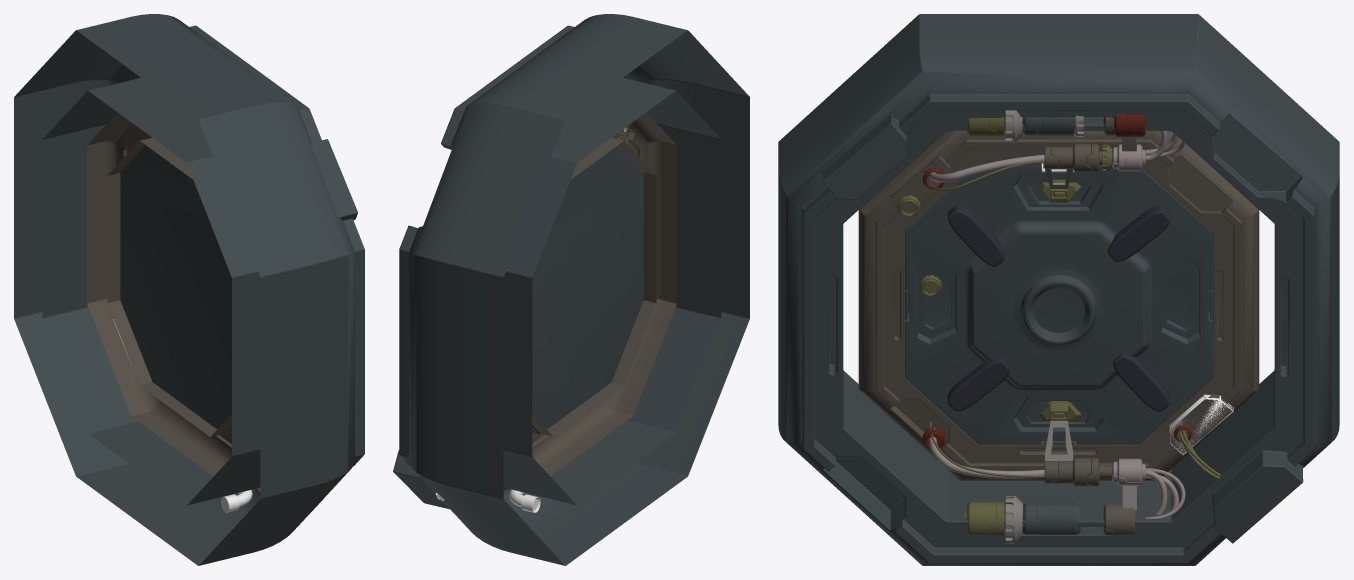
3 views of the same model, side by side, from view 1: azimuth 30°, elevation 25°; view 2: azimuth 150°, elevation 25°; view 3: azimuth 270°, elevation 25° (orthographic). The views are drawn at different scales.
Parts seen in each view (by area): view 1: 立方体.001, 立方体.026, 立方体.025, 柱体.023; view 2: 立方体.001, 立方体.026, 立方体.025, 柱体.023; view 3: 立方体.001, 立方体.026, 立方体.025, 立方体.024, 柱体.014, 柱体.013, 柱体.010, cable.005, 柱体.011, 柱体.012, Cutter.052, 柱体.015 (+4 smaller).
Boxes of the visible parts, <box> form: 立方体.001: <box>14,14,364,565</box>; 立方体.026: <box>120,145,231,434</box>; 立方体.025: <box>87,112,231,476</box>; 柱体.023: <box>221,490,252,512</box>; 立方体.001: <box>393,14,749,565</box>; 立方体.026: <box>532,145,643,434</box>; 立方体.025: <box>532,112,676,476</box>; 柱体.023: <box>509,489,540,512</box>; 立方体.001: <box>778,14,1339,565</box>; 立方体.026: <box>905,165,1212,444</box>; 立方体.025: <box>858,130,1259,480</box>; 立方体.024: <box>947,204,1170,411</box>; 柱体.014: <box>1044,143,1111,486</box>; 柱体.013: <box>1022,117,1080,534</box>; 柱体.010: <box>962,117,1004,534</box>; cable.005: <box>928,154,1044,478</box>; 柱体.011: <box>1112,144,1145,485</box>; 柱体.012: <box>1005,110,1022,543</box>; Cutter.052: <box>1169,394,1233,455</box>; 柱体.015: <box>1103,117,1136,534</box>.
Size of the model in its own units: 122 by 400 by 400.
